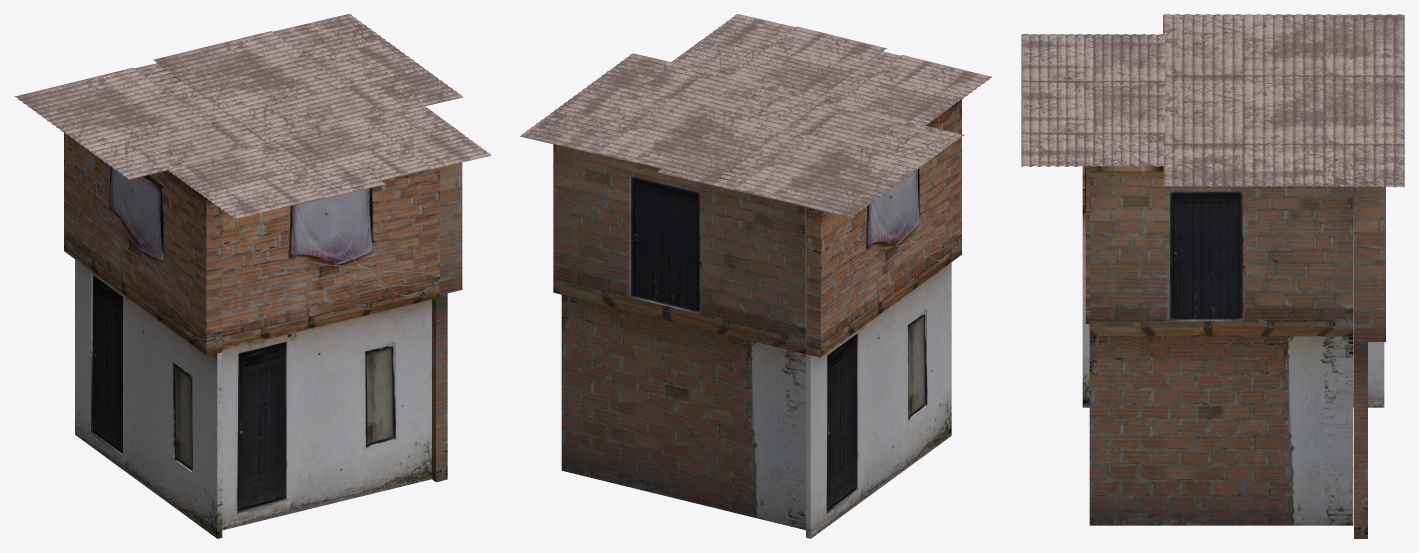
File: casa_izquierda_01.fbx
3 renders of one model, left to right at view 1: azimuth 30°, elevation 25°; view 2: azimuth 150°, elevation 25°; view 3: azimuth 270°, elevation 25°, orthographic. The views are drawn at different scales.
Visible parts, largest first — view 1: casa_izquierda_01A.002, Techo_01, casa_izquierda_01A.001, casa_izquierda_01B.002; view 2: casa_izquierda_01B.001, Techo_01, casa_izquierda_01A.001; view 3: casa_izquierda_01B.002, Techo_01, casa_izquierda_01B.001, casa_izquierda_01A.001, casa_izquierda_01A.002.
Part boxes in pixels (<box>): casa_izquierda_01A.002: <box>222,167,439,530</box>; Techo_01: <box>14,14,491,219</box>; casa_izquierda_01A.001: <box>64,132,222,538</box>; casa_izquierda_01B.002: <box>426,107,462,482</box>; casa_izquierda_01B.001: <box>553,144,806,530</box>; Techo_01: <box>520,14,992,218</box>; casa_izquierda_01A.001: <box>806,99,961,538</box>; casa_izquierda_01B.002: <box>1089,166,1353,525</box>; Techo_01: <box>1021,14,1404,187</box>; casa_izquierda_01B.001: <box>1354,186,1385,538</box>; casa_izquierda_01A.001: <box>1082,166,1384,407</box>; casa_izquierda_01A.002: <box>1085,166,1089,324</box>.
Size of the model in its own units: 1136 by 1128 by 1065.
